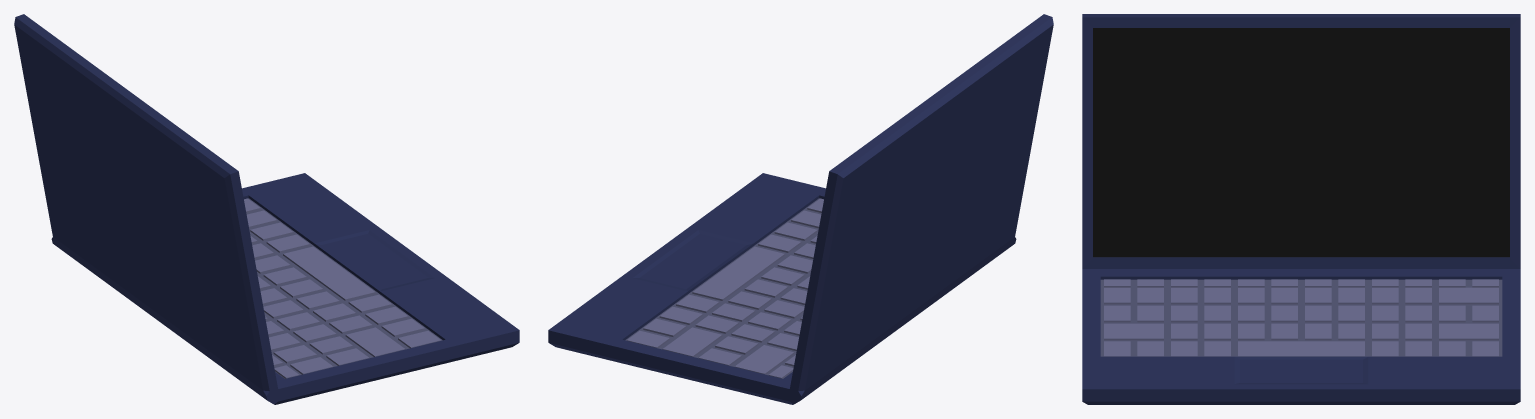
Rendered from Laptop.fbx.
3 renders of one model, left to right at view 1: azimuth 30°, elevation 25°; view 2: azimuth 150°, elevation 25°; view 3: azimuth 270°, elevation 25°, orthographic.
Visible parts, largest first — view 1: Cube; view 2: Cube; view 3: Cube.
Part boxes in pixels (box(x1,y1,x2,y2)): Cube: box(14, 14, 519, 404); Cube: box(548, 14, 1053, 404); Cube: box(1082, 14, 1520, 404).
Bounding box in the file's own units: 221 × 177 × 281.
